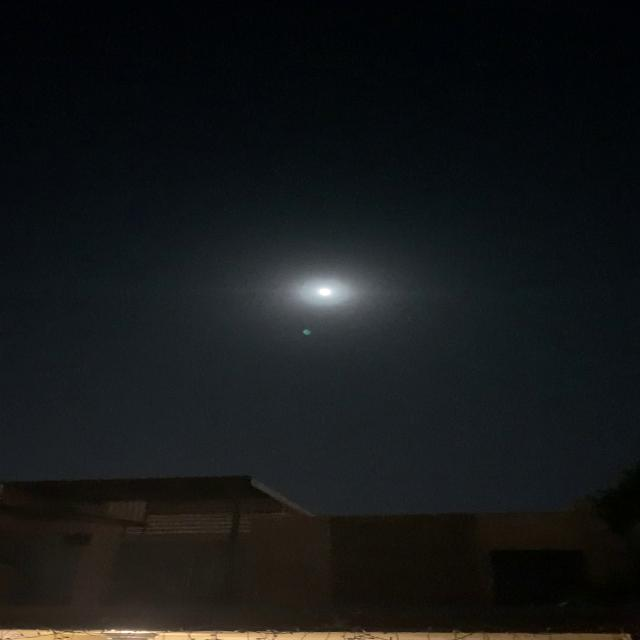moon: (300, 278, 358, 306)
